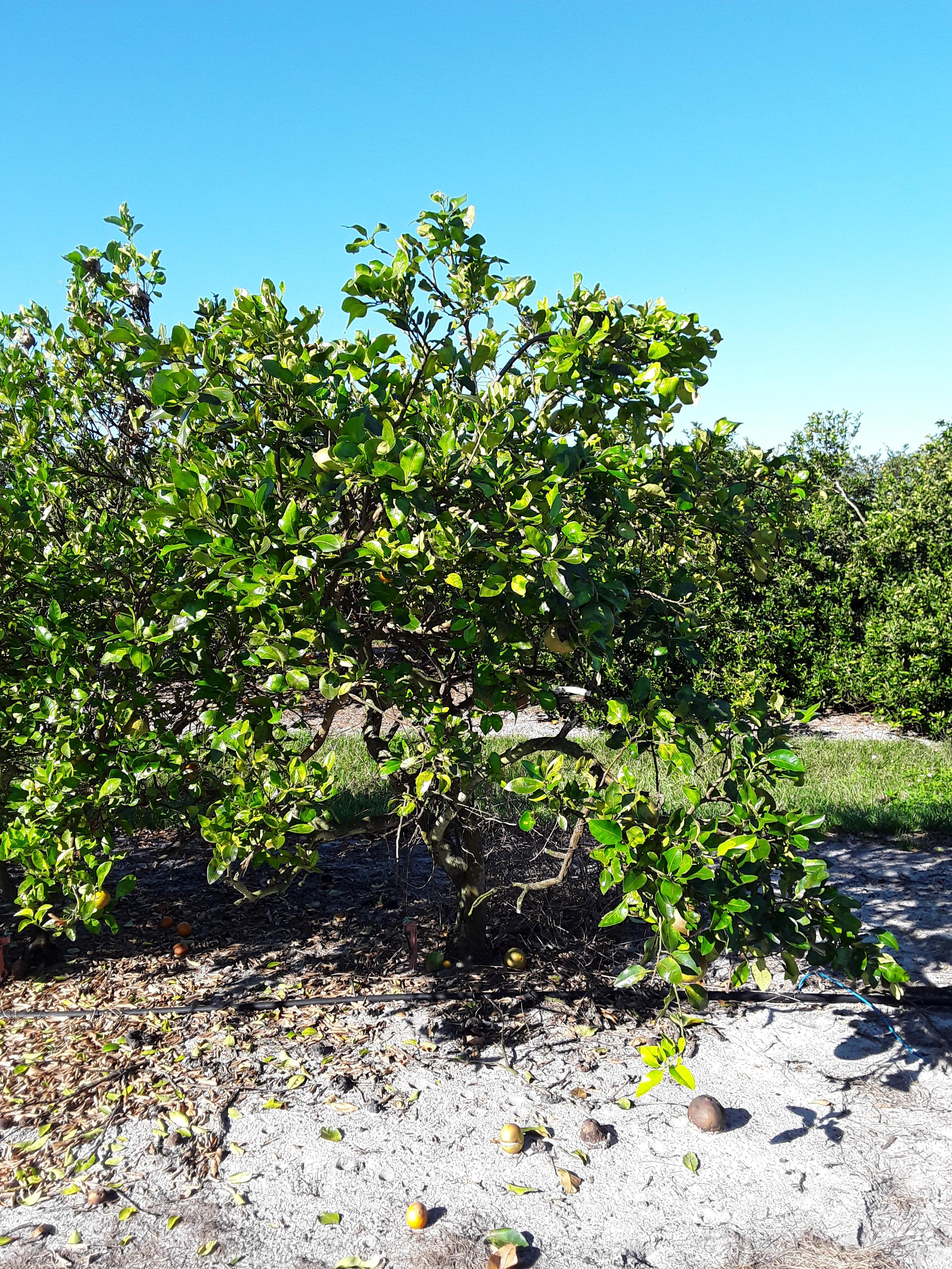fruit_on_ground: (665, 944, 709, 985), (668, 897, 707, 936), (544, 618, 583, 654), (113, 707, 152, 741), (628, 793, 664, 829), (468, 678, 502, 715), (503, 683, 537, 711), (312, 448, 341, 475), (550, 407, 576, 435), (109, 608, 138, 631), (175, 757, 201, 782), (377, 561, 400, 586), (90, 886, 110, 912)
fruit_on_tree: (686, 1093, 733, 1131), (579, 1117, 612, 1155), (404, 1196, 434, 1234), (497, 1120, 527, 1154), (121, 1027, 159, 1052), (505, 945, 527, 972), (423, 951, 447, 974), (85, 1187, 110, 1207), (10, 958, 28, 979), (170, 942, 191, 958), (177, 923, 196, 938), (160, 915, 174, 931)
